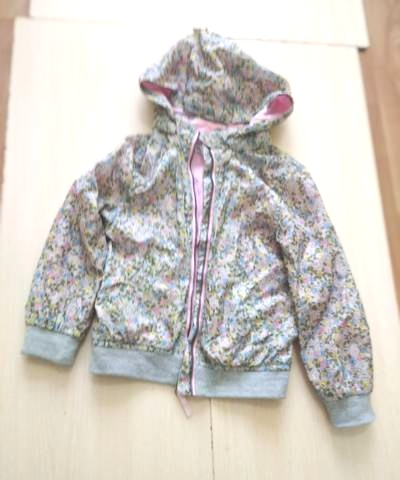Hoodie: (14, 58, 390, 423)
